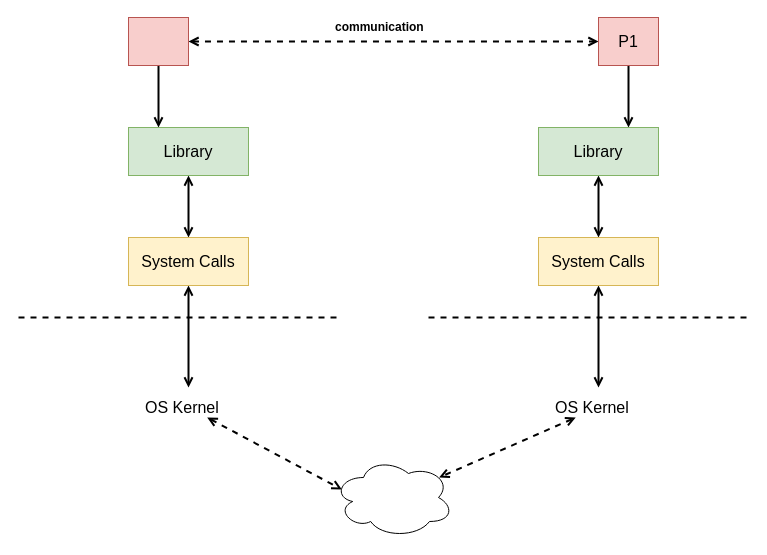
Some shapes in this 767 by 555 pixel diagram are drawn without their labels. Here are the shapes that lost their labels. From the top down, the centre of each, then its label:
[158,41]: P0
[393,497]: Networking
